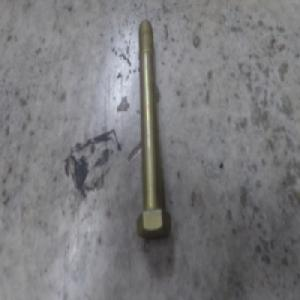Bolt: (138, 25, 174, 238)
